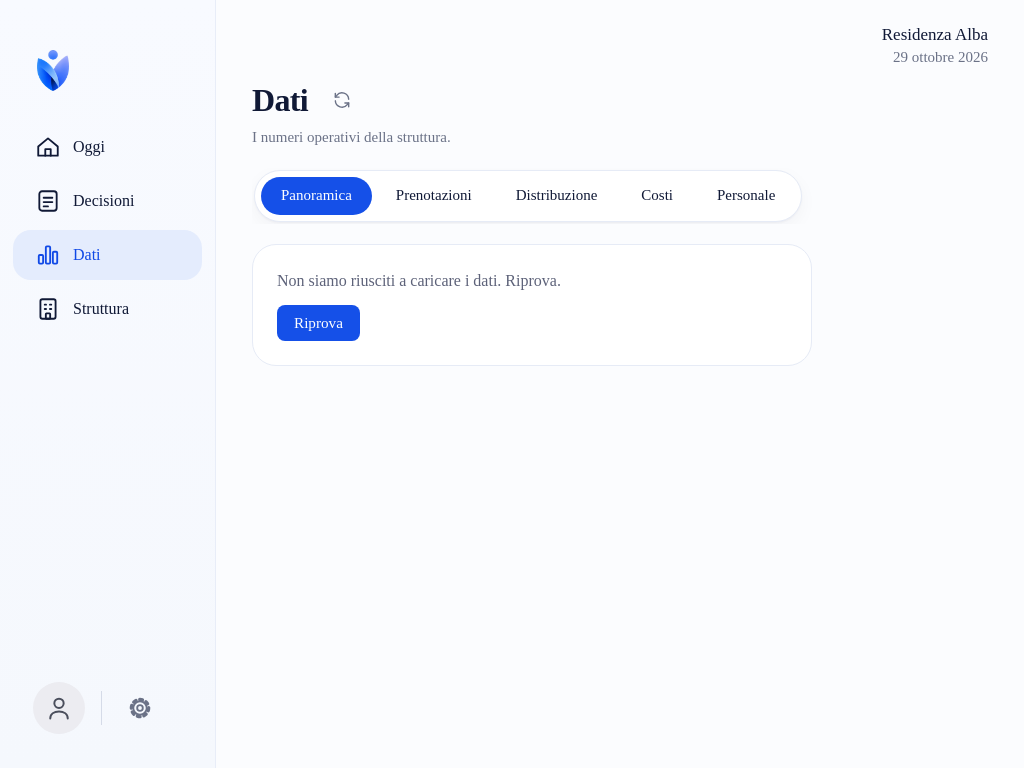
Test: /dati - loading and error › keeps the shell and the tabs on a failure, with a contained error and a 'Riprova' that works
Expected: the message shows "Non siamo riusciti a caricare i dati. Riprova.", [277, 272, 561, 289]
Expected: the element showing "Panoramica Prenotazioni Distribuzione Costi Personale" is shown, [254, 170, 802, 222]
Click the button "Riprova" at coordinates (318, 323), box [277, 305, 360, 341]
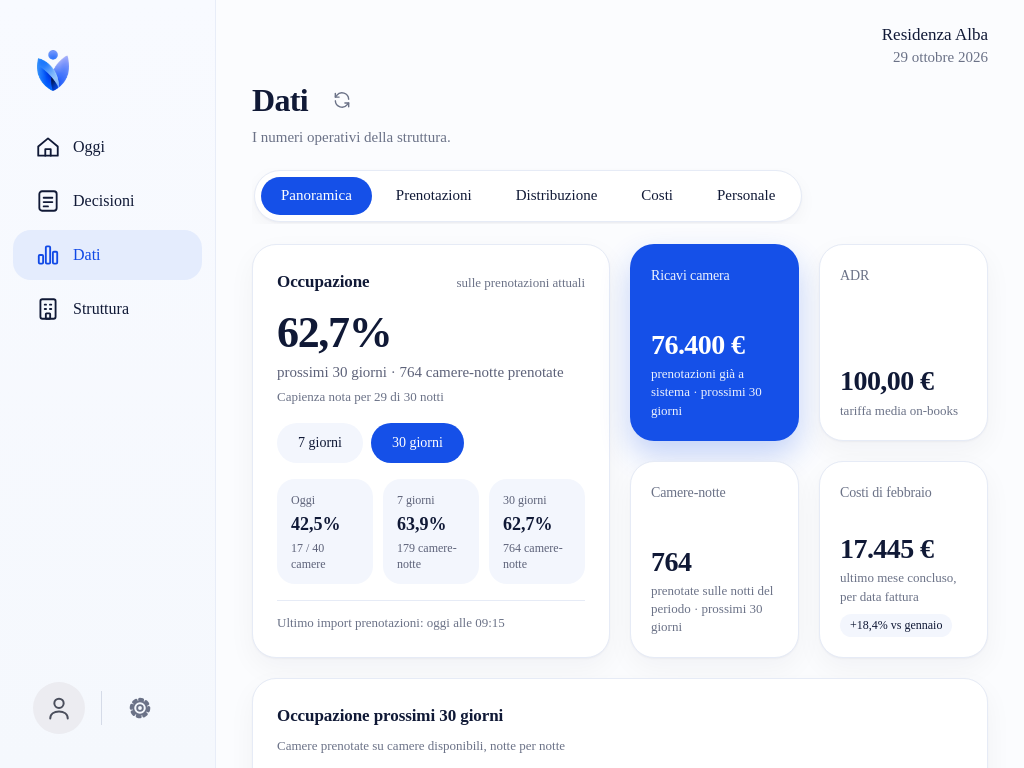
Expected: the element "Occupazione" is shown, [252, 244, 610, 658]
Expected: the message "Non siamo riusciti a caricare i dati. Riprova. Riprova" is gone
